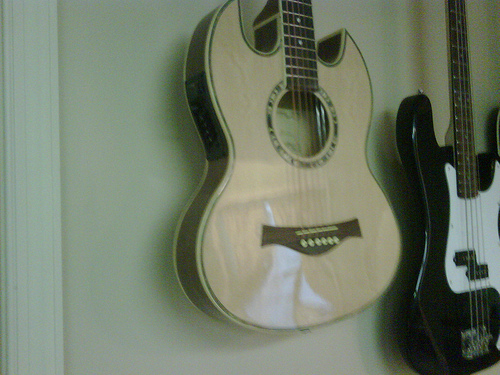guitar: (167, 1, 406, 335)
